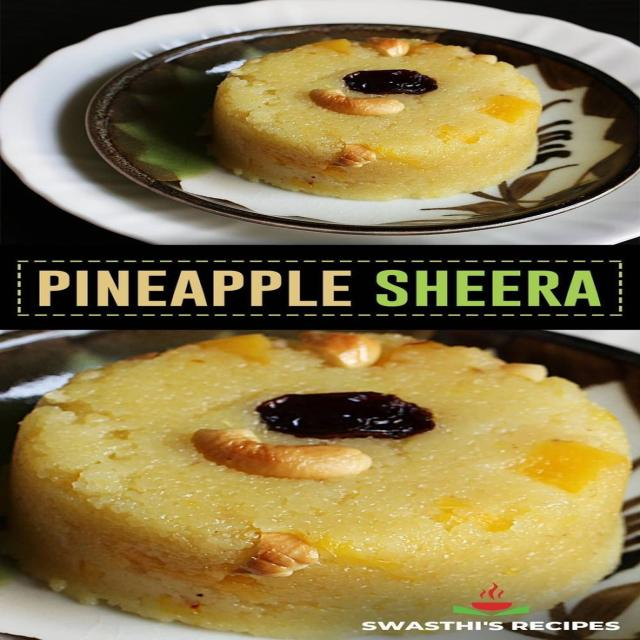kesari bath: (0, 321, 640, 640), (178, 23, 572, 216)
